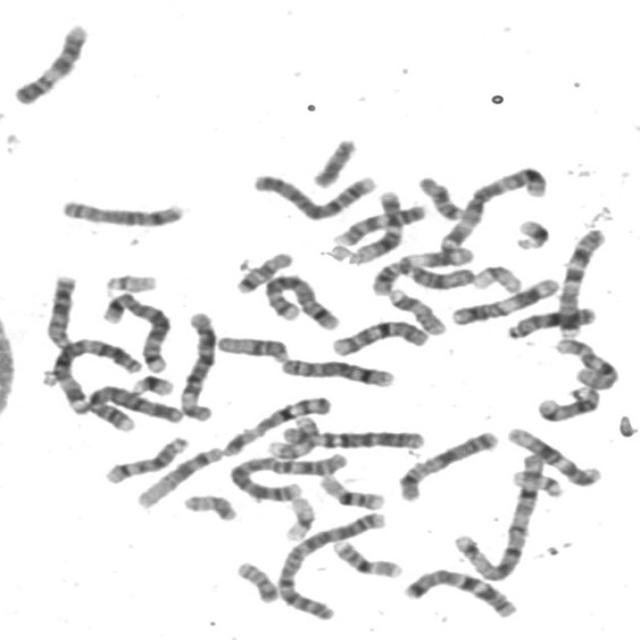A1: (133, 390, 338, 518), (448, 447, 547, 582)
A2: (269, 505, 391, 622), (225, 446, 352, 504)
A3: (433, 160, 551, 253), (46, 331, 144, 415)
B4: (245, 165, 382, 222), (80, 378, 186, 431)
B5: (95, 286, 174, 375), (258, 269, 343, 331)
C10: (544, 333, 623, 400), (325, 313, 432, 359)
C11: (365, 240, 477, 297), (446, 272, 562, 327)
C12: (501, 421, 605, 488), (344, 184, 409, 266)
C6: (174, 306, 220, 423), (274, 420, 429, 450)
C7: (396, 563, 522, 620), (552, 222, 610, 340)
C8: (54, 192, 188, 229), (274, 352, 398, 388)
C9: (7, 17, 92, 106), (327, 198, 430, 247)
D13: (500, 300, 600, 340), (40, 269, 80, 350)
D14: (99, 431, 192, 486), (532, 381, 604, 424)
D15: (212, 330, 294, 364), (398, 258, 477, 290)
E16: (326, 535, 406, 579), (312, 469, 388, 511)
E17: (383, 282, 449, 337), (261, 410, 323, 460)
E18: (230, 246, 296, 295), (412, 170, 468, 221)
F19: (278, 490, 320, 543), (467, 260, 525, 294)
F20: (231, 554, 282, 604), (177, 487, 240, 523)
G21: (511, 214, 554, 252), (126, 368, 178, 396)
G22: (506, 465, 567, 498), (99, 268, 160, 294)
X: (392, 425, 501, 503)
Y: (306, 132, 360, 190)
